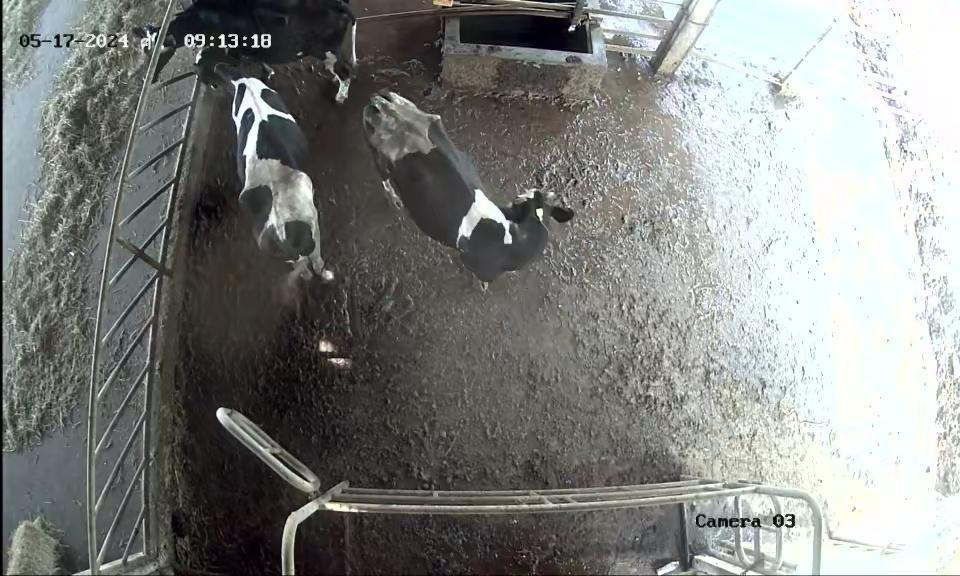eat: (97, 3, 231, 84)
stand: (357, 82, 592, 302), (197, 44, 323, 291)
